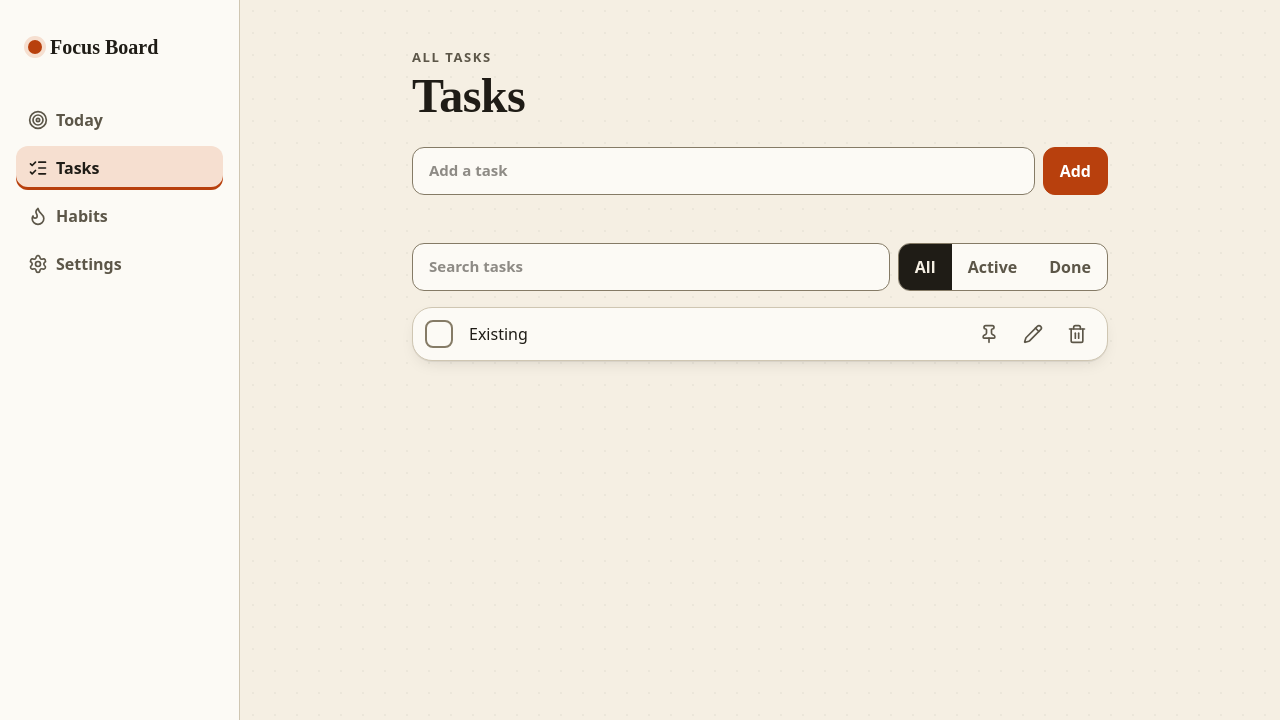
Scenario: AC1: adding tasks › adds a task to the top and clears the field
The width and height of the screenshot is (1280, 720).
In the field named "New task": (723, 171) [412,147,1035,195], type "  Buy milk "
Then press Enter
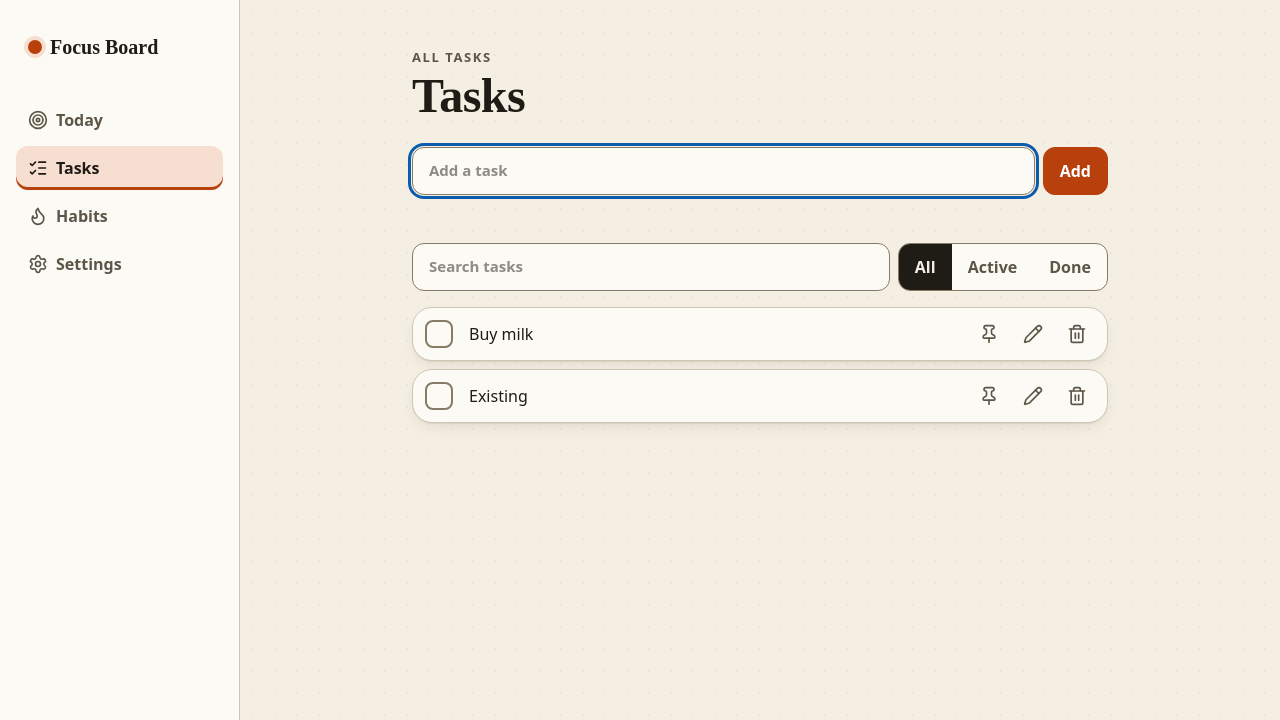
Expected: the list item "Existing" is shown, [412,369,1108,423]
Now the list item "Buy milk" is shown, box [412,307,1108,361]
